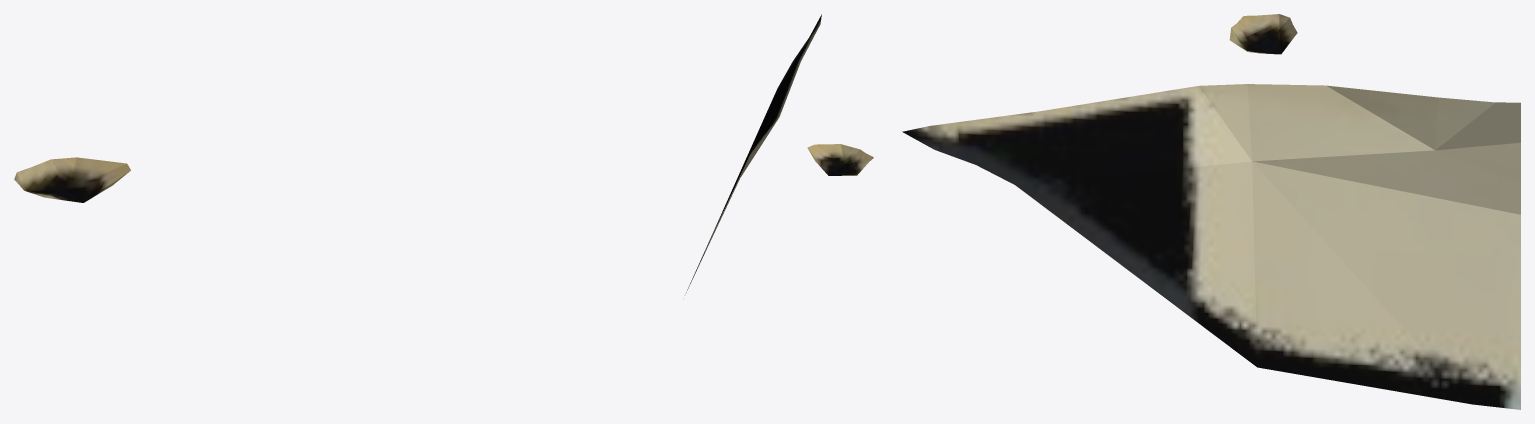
The picture shows the model from 3 angles, left to right: view 1: azimuth 30°, elevation 25°; view 2: azimuth 150°, elevation 25°; view 3: azimuth 270°, elevation 25°; orthographic projection. The views are drawn at different scales.
Size of the model in its own units: 0.7204 by 0.7927 by 1.6.
Materials: 1 (1 with a texture image).
